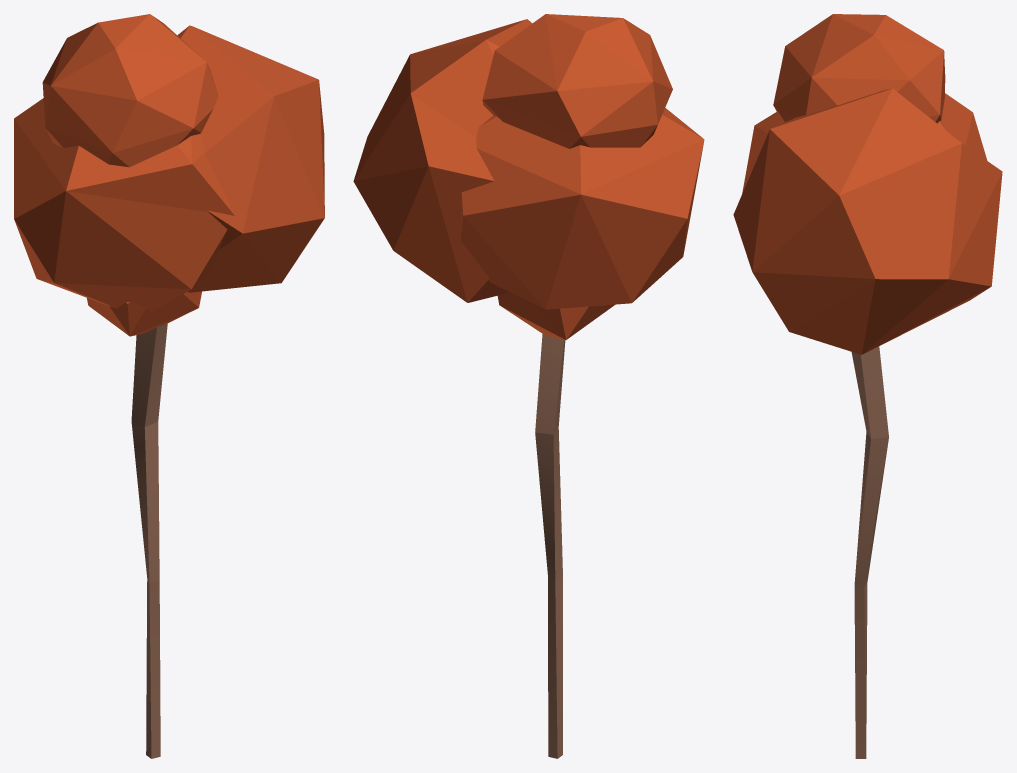
The model's file is world_4_tree_2.dae.
The picture shows the model from 3 angles, left to right: view 1: azimuth 30°, elevation 25°; view 2: azimuth 150°, elevation 25°; view 3: azimuth 270°, elevation 25°; orthographic projection. The views are drawn at different scales.
Parts seen in each view (by area): view 1: world_4_tree_2_leaves, world_4_tree_2_base; view 2: world_4_tree_2_leaves, world_4_tree_2_base; view 3: world_4_tree_2_leaves, world_4_tree_2_base.
Boxes of the visible parts, x1=… form: world_4_tree_2_leaves: x1=14, y1=14, x2=324, y2=336; world_4_tree_2_base: x1=131, y1=323, x2=167, y2=758; world_4_tree_2_leaves: x1=353, y1=14, x2=704, y2=339; world_4_tree_2_base: x1=535, y1=333, x2=565, y2=758; world_4_tree_2_leaves: x1=733, y1=14, x2=1002, y2=354; world_4_tree_2_base: x1=851, y1=346, x2=888, y2=758.
Size of the model in its own units: 2.64 by 2 by 5.94.
